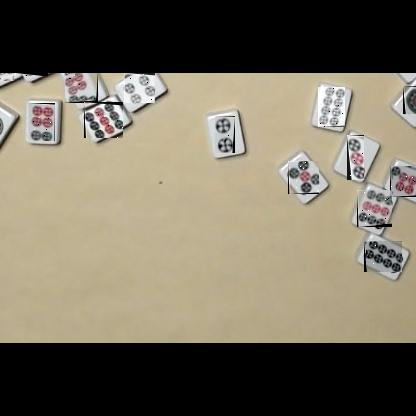1p: (403, 86, 416, 114)
2p: (215, 116, 235, 153)
3p: (347, 135, 364, 180)
4p: (124, 73, 155, 103)
5p: (288, 161, 319, 194)
6p: (28, 103, 55, 141), (0, 73, 14, 81)
7p: (65, 73, 98, 103), (390, 166, 416, 197)
8p: (364, 241, 402, 272), (318, 87, 345, 127)
9p: (84, 102, 123, 138), (357, 190, 392, 227), (15, 73, 48, 76)
